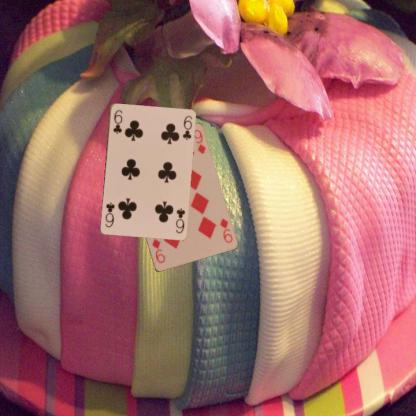6c: (110, 107, 124, 135), (173, 205, 186, 234)
9d: (216, 215, 234, 244)
